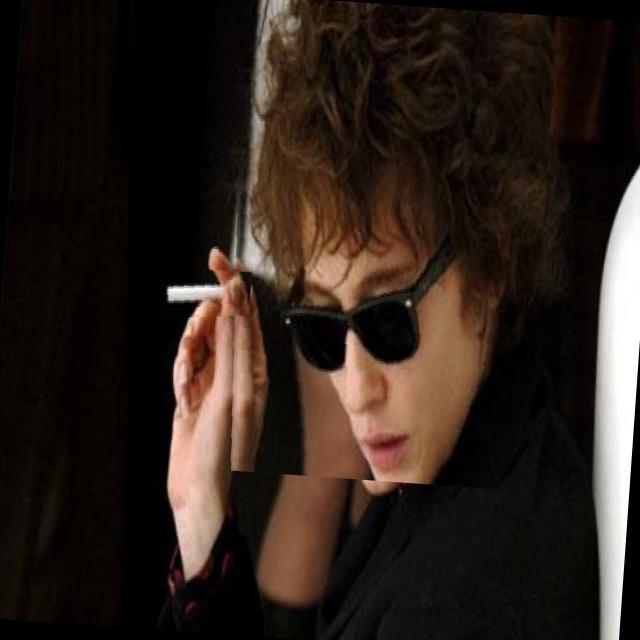cigarette: (153, 266, 251, 324)
